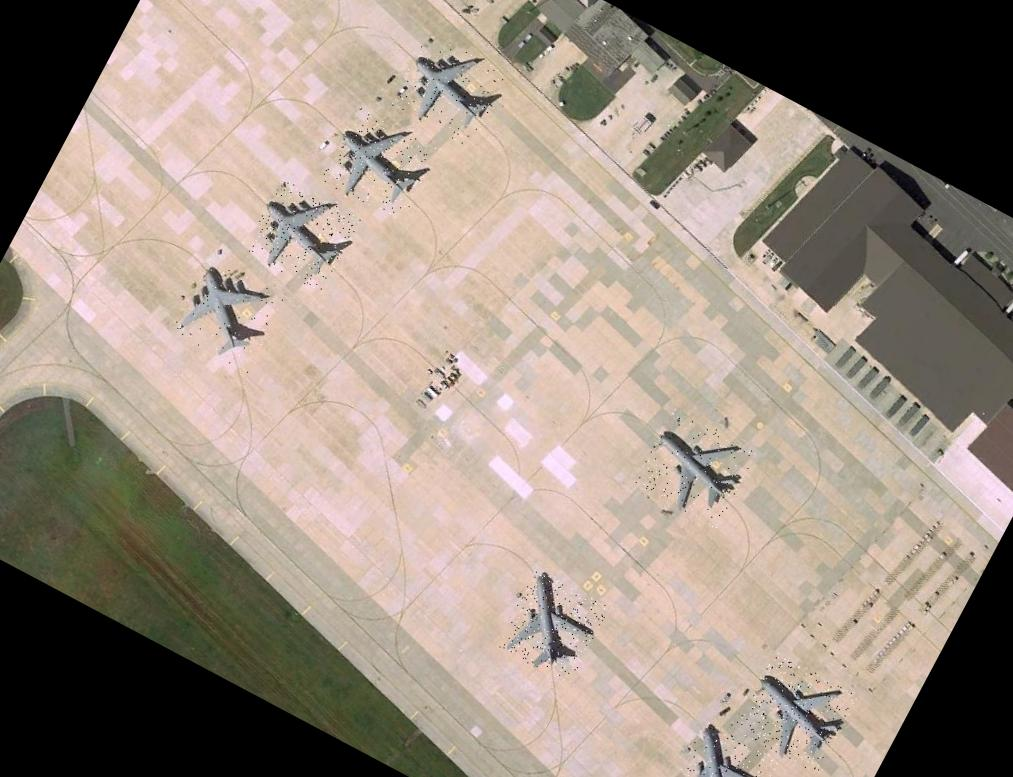A18: (732, 650, 860, 775), (632, 406, 757, 528), (494, 568, 610, 685), (662, 719, 779, 777)
A3: (388, 30, 510, 148), (317, 106, 440, 222), (170, 257, 288, 373), (243, 177, 360, 293)
